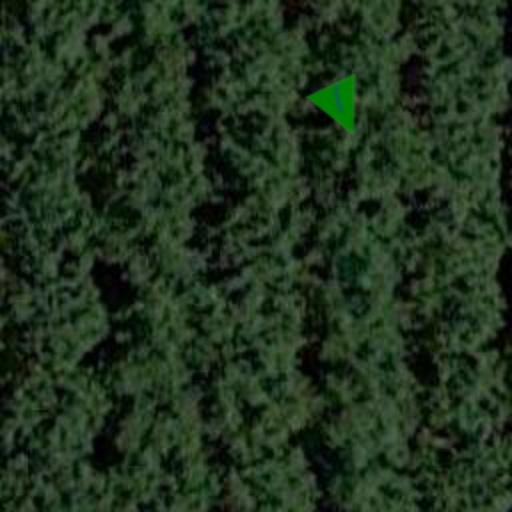triangle: (306, 74, 378, 146)
